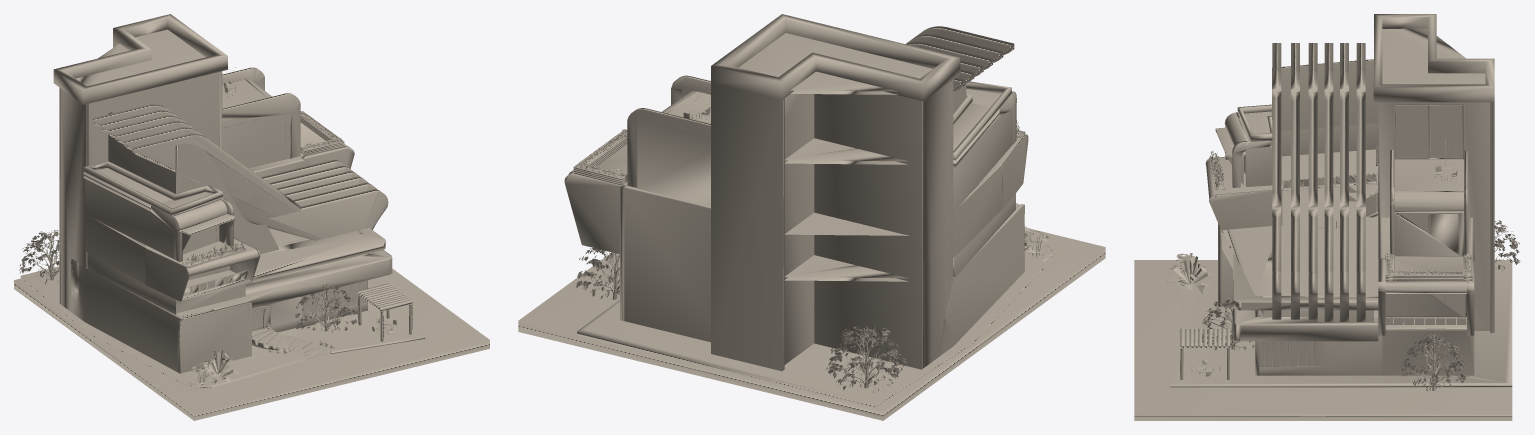
File: uploaded-architecture.glb
3 renders of one model, left to right at view 1: azimuth 30°, elevation 25°; view 2: azimuth 150°, elevation 25°; view 3: azimuth 270°, elevation 25°, orthographic. The views are drawn at different scales.
Size of the model in its own units: 6.9 by 5.4 by 7.35.
